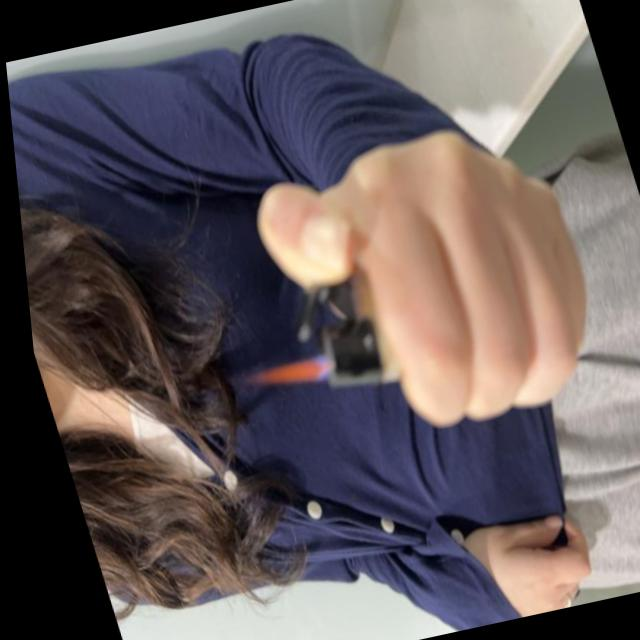Fire: (230, 350, 331, 398)
